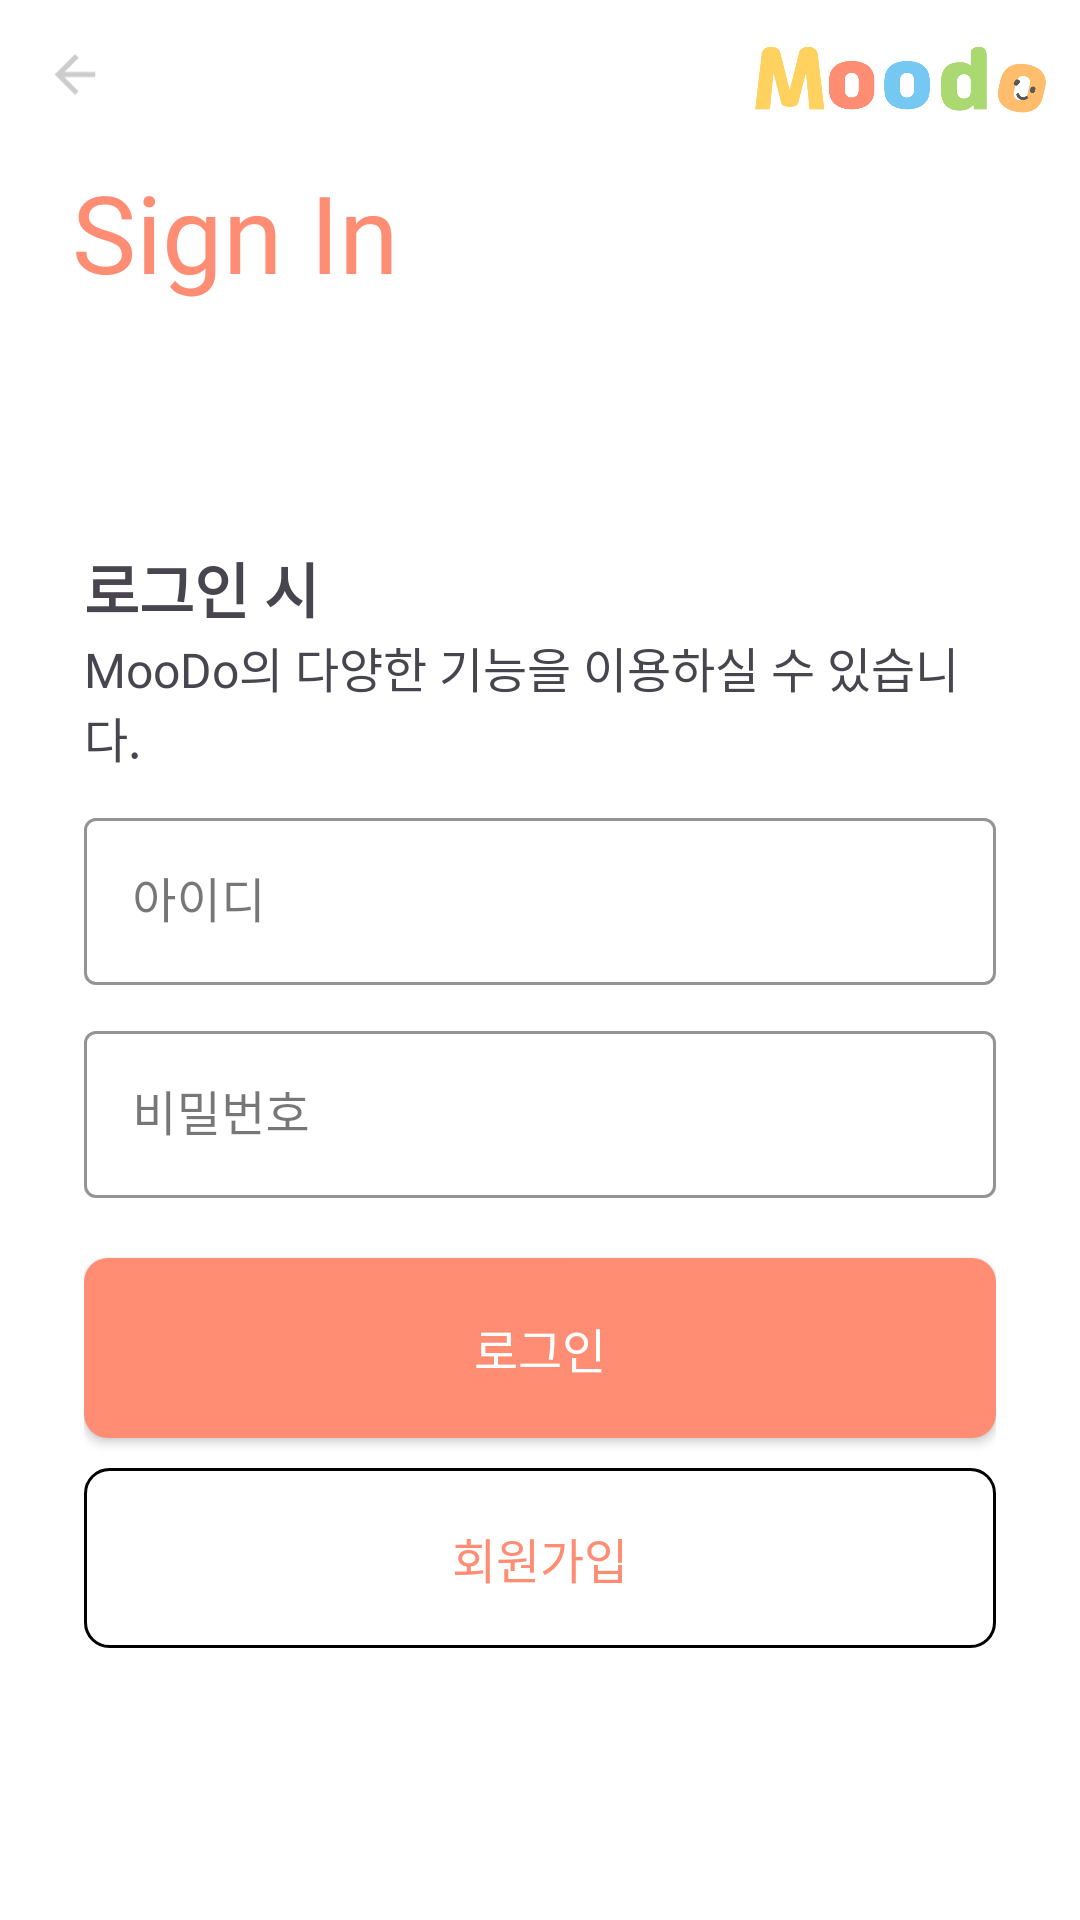

Named icons in this screenshot (1080 x 1920) and their centers, [x,y]:
back: [75,74]
